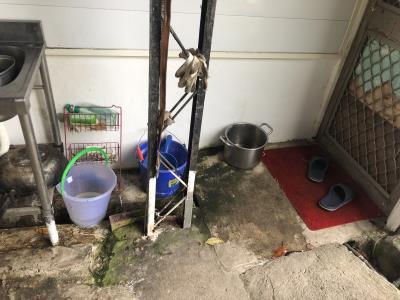bowl: (1, 146, 68, 196), (221, 122, 271, 172)
bucket: (57, 161, 118, 232), (133, 136, 188, 198)
